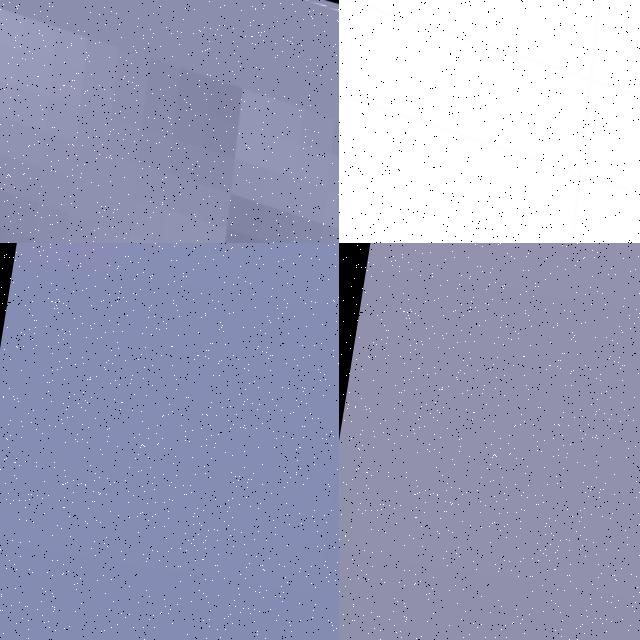0: (0, 0, 339, 243)
drone: (339, 0, 640, 243)
